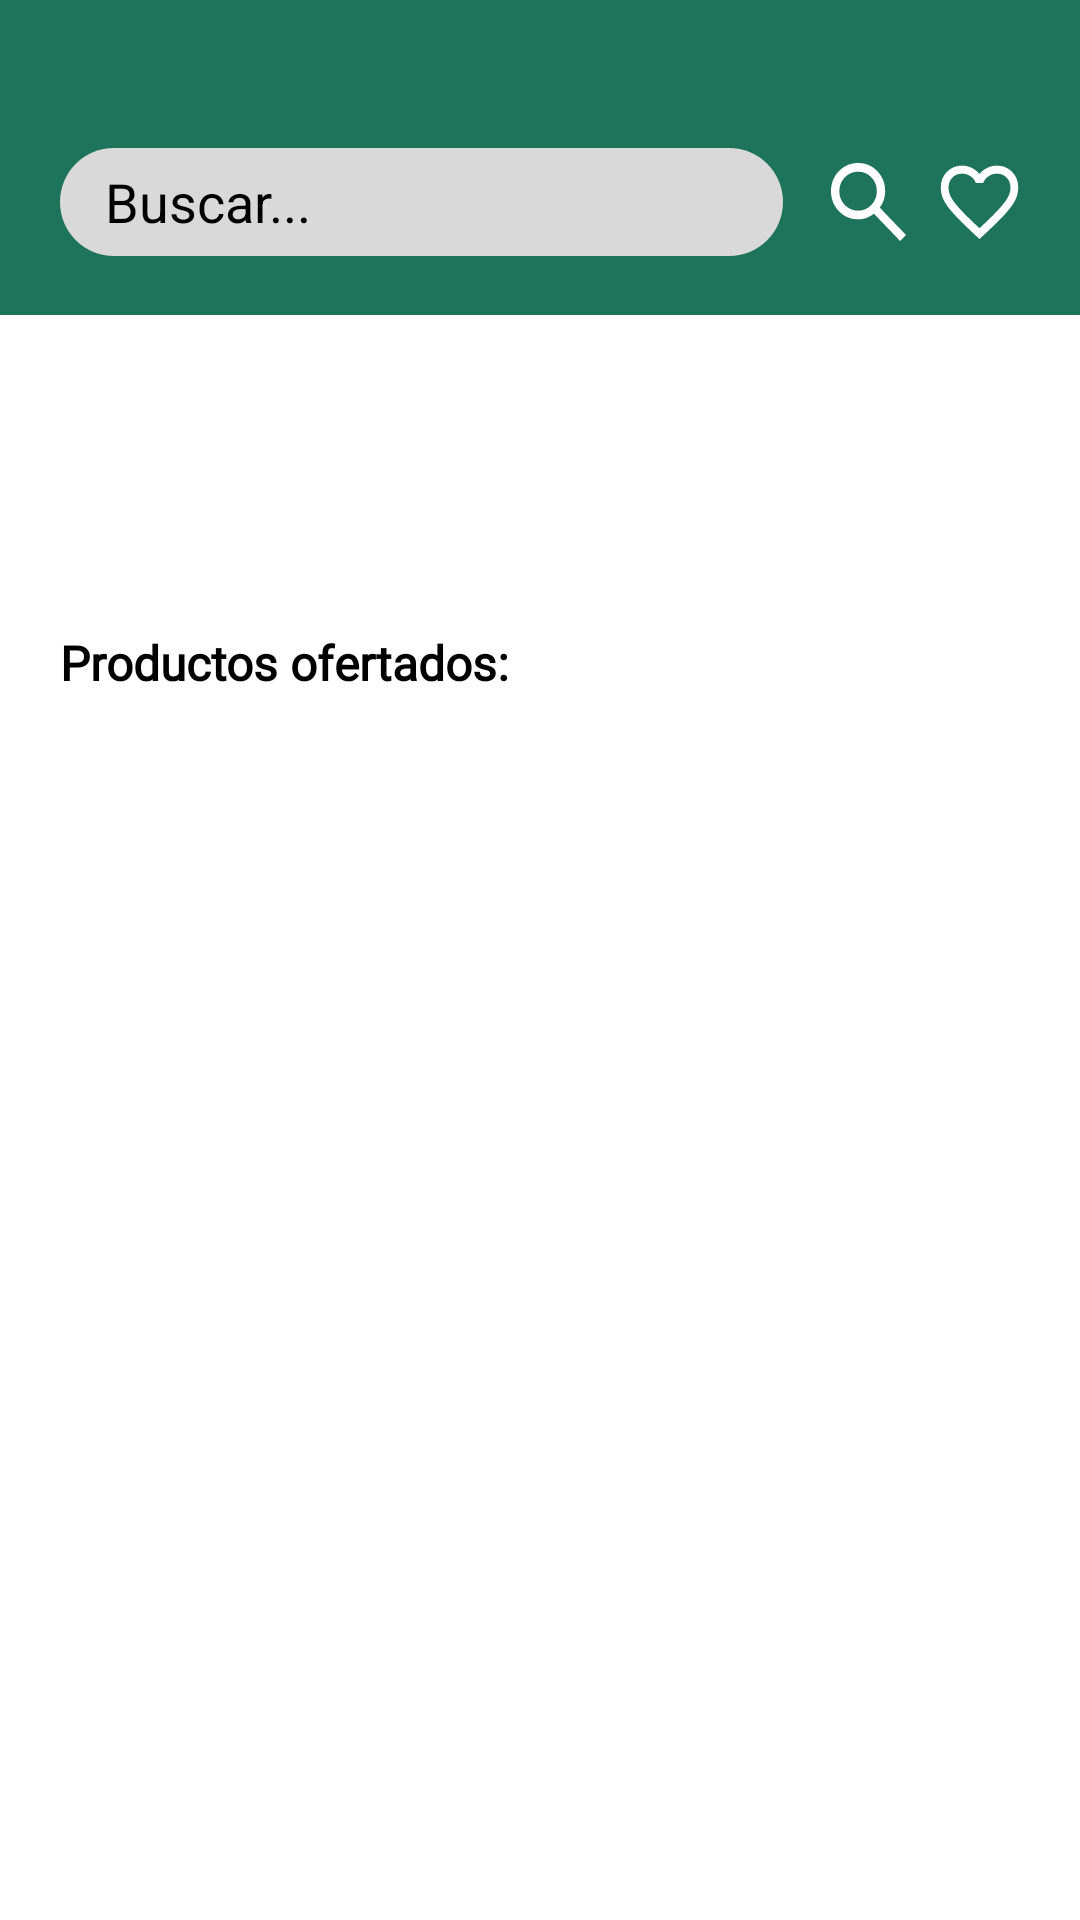

Named icons in this screenshot (1080×1920) and their bounding boxes, (x1, y1, x2, y2):
favorite: (940, 165, 1019, 239)
search: (831, 163, 906, 241)
